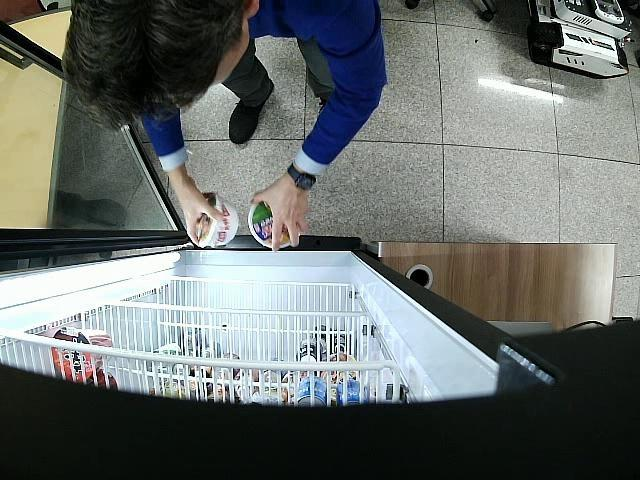09_yukGaeJang: (248, 200, 300, 248), (196, 192, 239, 248)
